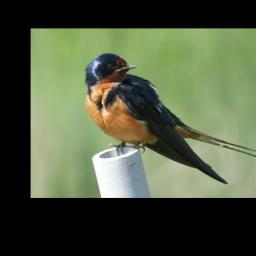Swallow: (83, 50, 256, 182)
